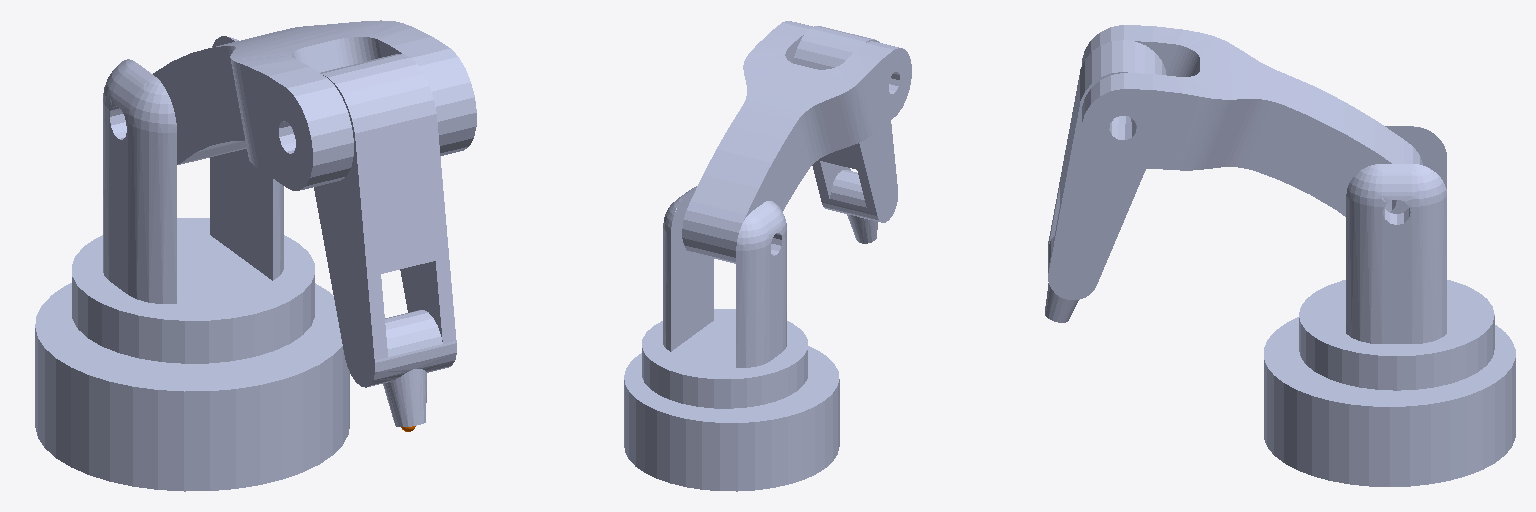
The robot description file, URDF, robot "robot_montaj":
<?xml version="1.0" encoding="utf-8"?>
<robot name="robot_montaj">

  <link name="world"/>
  <joint name="fixed_to_world" type="fixed">
    <parent link="world"/>
    <child link="base_link"/>
    <origin xyz="0 0 0" rpy="0 0 0"/>
  </joint>
  
  <link name="base_link">
    <inertial>
      <origin xyz="-0.0057354 0.00028844 0.0028305" rpy="0 0 0" />
      <mass value="2.0617" />
      <inertia ixx="0.0063182" ixy="1.6404E-37" ixz="-1.8048E-35" iyy="0.0063182" iyz="-1.5804E-35" izz="0.010953" />
    </inertial>
    <visual>
      <origin xyz="0 0 0" rpy="1.5708 0 0" />
      <geometry>
        <mesh filename="package://kinect_arm_control/description/meshes/base_link.STL" />
      </geometry>
      <material name="">
        <color rgba="0.79216 0.81961 0.93333 1" />
      </material>
    </visual>
    <collision>
      <origin xyz="0 0 0" rpy="1.5708 0 0" />
      <geometry>
        <mesh filename="package://kinect_arm_control/description/meshes/base_link.STL" />
      </geometry>
    </collision>
  </link>

  <link name="link_1">
    <inertial>
      <origin xyz="0.001866 -0.005431 0.073379" rpy="0 0 0" />
      <mass value="1.0475" />
      <inertia ixx="0.0039029" ixy="4.5787E-10" ixz="3.2618E-09" iyy="0.0044332" iyz="-3.0406E-10" izz="0.0025452" />
    </inertial>
    <visual>
      <origin xyz="0 0 0" rpy="0 0 -3.1416"  />
      <geometry>
        <mesh filename="package://kinect_arm_control/description/meshes/link_1.STL" />
      </geometry>
      <material name="">
        <color rgba="0.79216 0.81961 0.93333 1" />
      </material>
    </visual>
    <collision>
      <origin xyz="0 0 0" rpy="0 0 -3.1416"  />
      <geometry>
        <mesh filename="package://kinect_arm_control/description/meshes/link_1.STL" />
      </geometry>
    </collision>
  </link>

  <joint name="joint0" type="revolute">
    <origin xyz="0 0 0" rpy="0 0 0"  />
    <parent link="base_link" />
    <child link="link_1" />
    <axis xyz="0 0 1" />
    <limit lower="-3.14" upper="3.14" effort="100.0" velocity="1.0"/>
  </joint>

  <link name="link_2">
    <inertial>
      <origin xyz="0.11978 0.01159 -0.001866" rpy="0 0 0" />
      <mass value="1.1572" />
      <inertia ixx="0.0015363" ixy="2.3965E-05" ixz="4.0545E-09" iyy="0.007344" iyz="-2.4022E-10" izz="0.006733" />
    </inertial>
    <visual>
      <origin xyz="0 0 0" rpy="0 0 0" />
      <geometry>
        <mesh filename="package://kinect_arm_control/description/meshes/link_2.STL" />
      </geometry>
      <material name="">
        <color rgba="0.79216 0.81961 0.93333 1" />
      </material>
    </visual>
    <collision>
      <origin xyz="0 0 0" rpy="0 0 0" />
      <geometry>
        <mesh filename="package://kinect_arm_control/description/meshes/link_2.STL" />
      </geometry>
    </collision>
  </link>

  <joint name="joint1" type="revolute">
    <origin xyz="0 -0.005431 0.18283" rpy="1.5708 -0.36225 -1.5708" />
    <parent link="link_1" />
    <child link="link_2" />
    <axis xyz="0 0 1" />
    <limit lower="0.0" upper="0.80" effort="100.0" velocity="1.0"/>
  </joint>

  <link name="link_3">
    <inertial>
      <origin xyz="0.056936 -1.1651E-07 0.001866" rpy="0 0 0" />
      <mass value="0.56572" />
      <inertia ixx="0.00033639" ixy="6.444E-09" ixz="3.9191E-09" iyy="0.0020474" iyz="4.0377E-11" izz="0.0020274" />
    </inertial>
    <visual>
      <origin xyz="0 0 0" rpy="0 0 0" />
      <geometry>
        <mesh filename="package://kinect_arm_control/description/meshes/link_3.STL" />
      </geometry>
      <material name="">
        <color rgba="0.79216 0.81961 0.93333 1" />
      </material>
    </visual>
    <collision>
      <origin xyz="0 0 0" rpy="0 0 0" />
      <geometry>
        <mesh filename="package://kinect_arm_control/description/meshes/link_3.STL" />
      </geometry>
    </collision>
  </link>

  <joint name="joint2" type="revolute">
    <origin xyz="0.22 0 0" rpy="-3.1416 0 -1.6666" />
    <parent link="link_2" />
    <child link="link_3" />
    <axis xyz="0 0 1" />
    <limit lower="-1.0" upper="0.1" effort="100.0" velocity="1.0"/>
  </joint>

  <link name="tcp_link">
    <inertial>
      <mass value="0.001" />
      <origin xyz="0 0 0" rpy="0 0 0" />
      <inertia ixx="0.000001" ixy="0" ixz="0" iyy="0.000001" iyz="0" izz="0.000001" />
    </inertial>
    <visual>
      <origin xyz="0 0 0" rpy="0 0 0" />
      <geometry>
        <sphere radius="0.005" />
      </geometry>
      <material name="orange">
        <color rgba="1.0 0.5 0.0 1.0" />
      </material>
    </visual>
    <collision>
      <origin xyz="0 0 0" rpy="0 0 0" />
      <geometry>
        <sphere radius="0.005" />
      </geometry>
    </collision>
  </link>

  <joint name="tcp_joint" type="fixed">
    <parent link="link_3" />
    <child link="tcp_link" />
    <origin xyz="0.20 0 0" rpy="0 0 0" /> 
  </joint>

  <ros2_control name="GazeboSystem" type="system">
    <hardware>
      <plugin>gazebo_ros2_control/GazeboSystem</plugin>
    </hardware>
    <joint name="joint0">
      <command_interface name="position"/>
      <state_interface name="position"/>
      <state_interface name="velocity"/>
    </joint>
    <joint name="joint1">
      <command_interface name="position"/>
      <state_interface name="position"/>
      <state_interface name="velocity"/>
    </joint>
    <joint name="joint2">
      <command_interface name="position"/>
      <state_interface name="position"/>
      <state_interface name="velocity"/>
    </joint>
  </ros2_control>

  <gazebo>
    <plugin filename="libgazebo_ros2_control.so" name="gazebo_ros2_control">
      <parameters>/home/orhan/ros2_ws/src/my_custom_arm_moveit_config/config/ros2_controllers.yaml</parameters>
    </plugin>
  </gazebo>

</robot>

--- Facts derived from the render (not from the file) ---
Views: 3 orthographic renders of the robot side by side, from view 1: azimuth 30°, elevation 25°; view 2: azimuth 150°, elevation 25°; view 3: azimuth 270°, elevation 25°.
Model robot_montaj with 6 links and 5 joints (3 revolute, 2 fixed), rooted at world, posed all joints at 0.
Visible links, largest first — view 1: link_1, base_link, link_3, link_2; view 2: link_2, link_1, base_link, link_3; view 3: link_2, link_1, base_link, link_3.
Boxes of the visible links, x1,y1,x2,y2 form: link_1: [72, 36, 314, 363]; base_link: [35, 283, 349, 491]; link_3: [314, 54, 456, 426]; link_2: [153, 20, 476, 190]; link_2: [682, 21, 911, 263]; link_1: [642, 186, 807, 408]; base_link: [624, 346, 839, 491]; link_3: [793, 26, 897, 243]; link_2: [1082, 25, 1422, 216]; link_1: [1299, 126, 1494, 390]; base_link: [1264, 317, 1515, 486]; link_3: [1045, 40, 1166, 322].
Size in the robot's own frame: 0.2 by 0.3728 by 0.3336 metres.
4 mesh visuals loaded from 4 distinct referenced files (4 binary STL).
